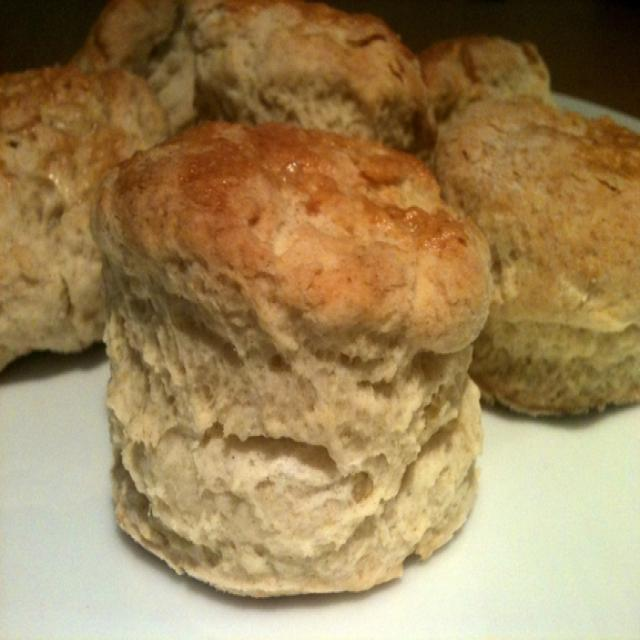面包点心: (24, 21, 614, 624)
